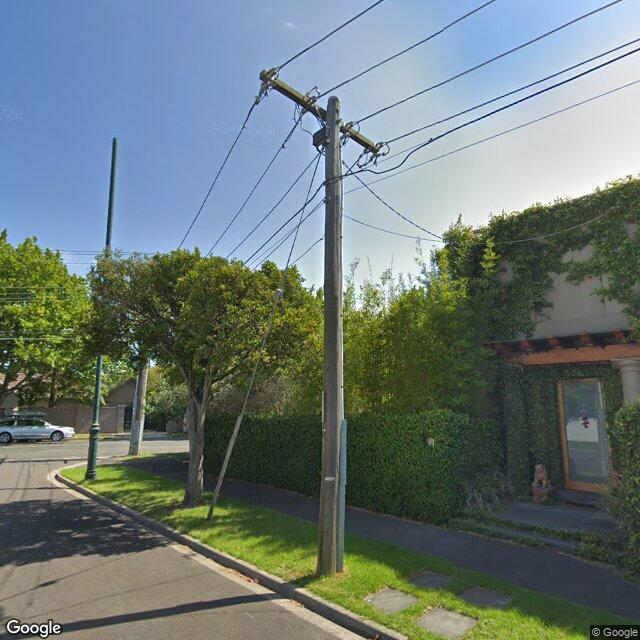crossarm: (257, 67, 379, 156)
steel-pole: (84, 137, 118, 481)
timber-pole: (318, 96, 346, 575), (130, 358, 148, 456)
